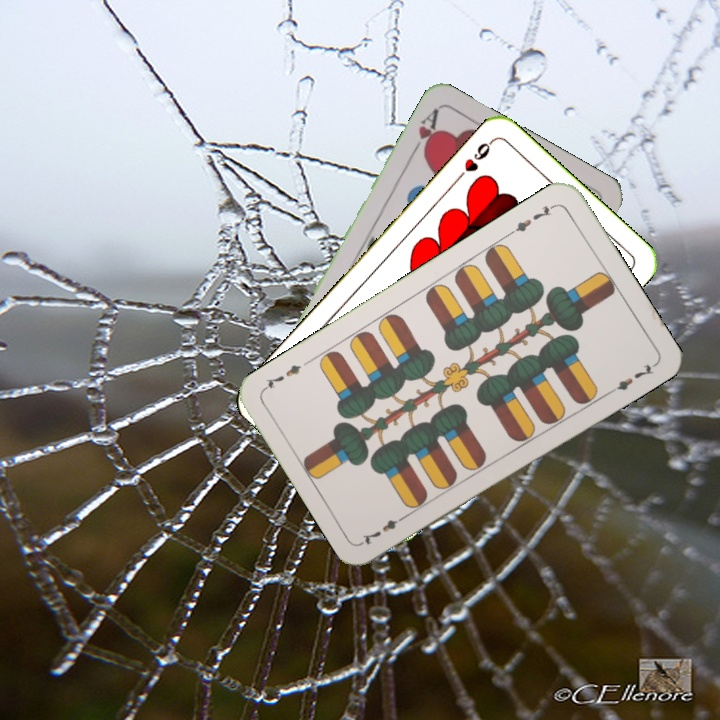E7: (358, 509, 411, 547), (506, 200, 559, 237)
H9: (452, 135, 496, 184)
HA: (406, 105, 442, 161)
